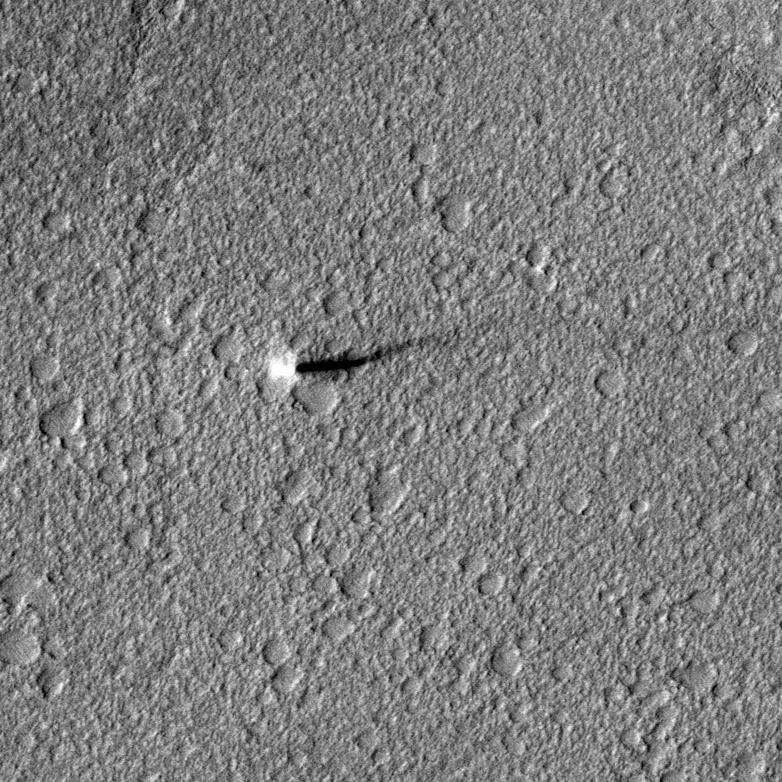dust_devil: (266, 331, 440, 385)
